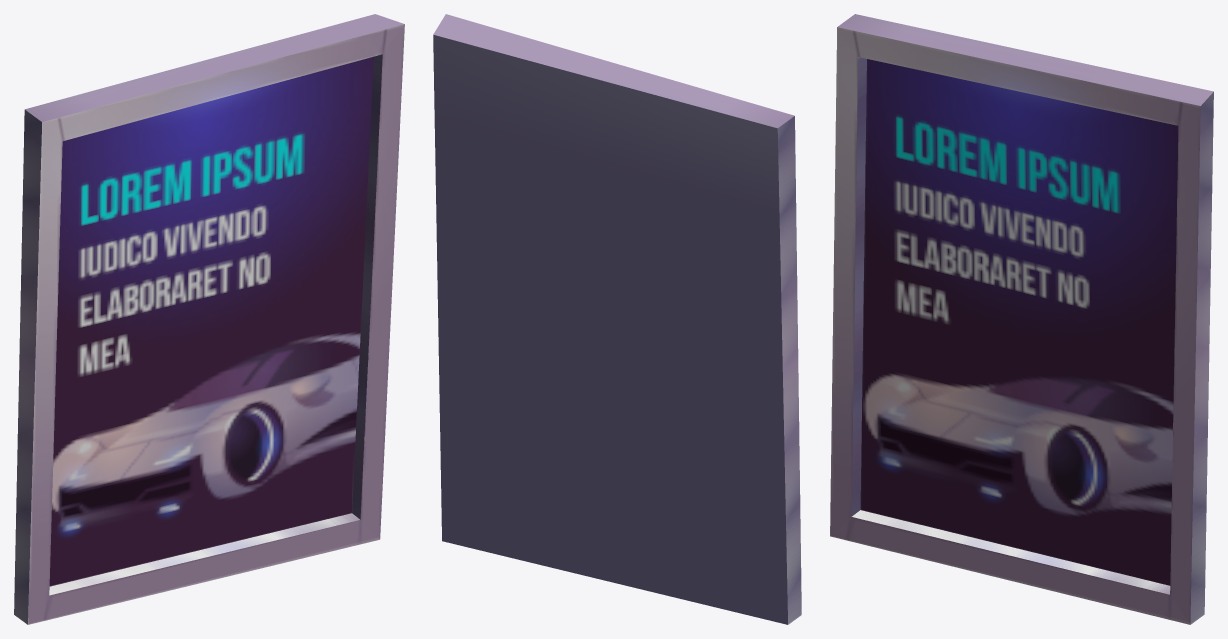
The model's file is Cartel_publicidad_pared.fbx.
The picture shows the model from 3 angles, left to right: view 1: azimuth 30°, elevation 25°; view 2: azimuth 150°, elevation 25°; view 3: azimuth 330°, elevation 25°; orthographic projection. The views are drawn at different scales.
Visible parts, largest first — view 1: Cube.045; view 2: Cube.045; view 3: Cube.045.
Part boxes in pixels (left/top/right/bottom): Cube.045: left=14, top=14, right=404, bottom=624; Cube.045: left=433, top=14, right=801, bottom=624; Cube.045: left=830, top=14, right=1213, bottom=624.
Size of the model in its own units: 68.75 by 91.84 by 6.86.
